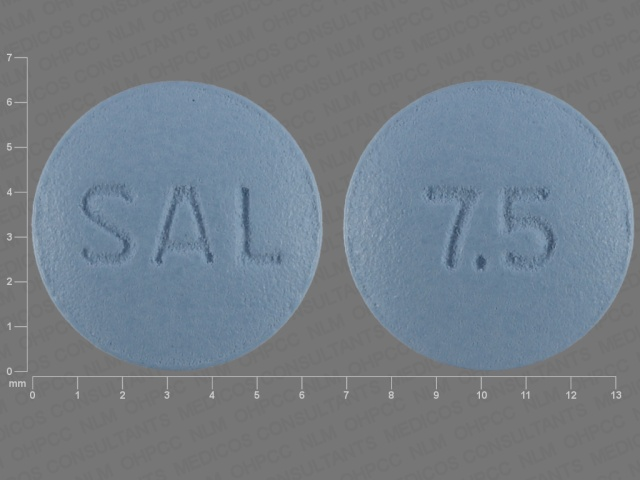7.5: (424, 178, 562, 272)
A: (149, 185, 221, 267)
L: (236, 187, 292, 267)
S: (74, 181, 137, 268)
